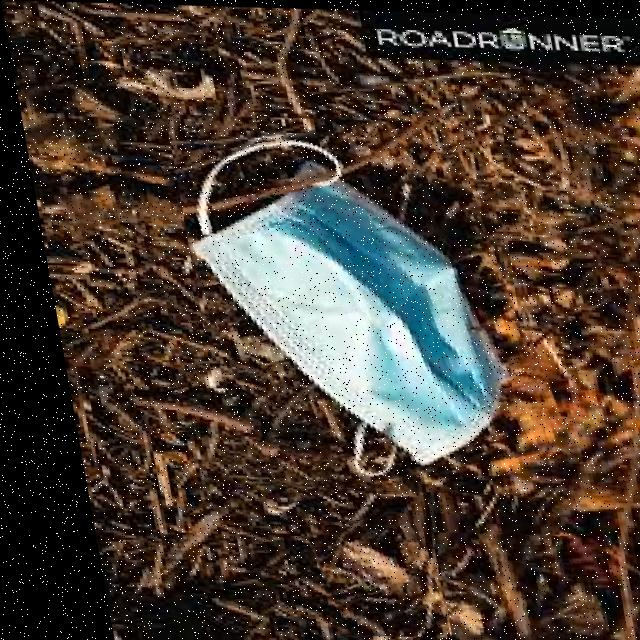litter: (160, 113, 547, 495), (413, 530, 584, 640), (288, 512, 426, 636), (116, 385, 249, 436)
